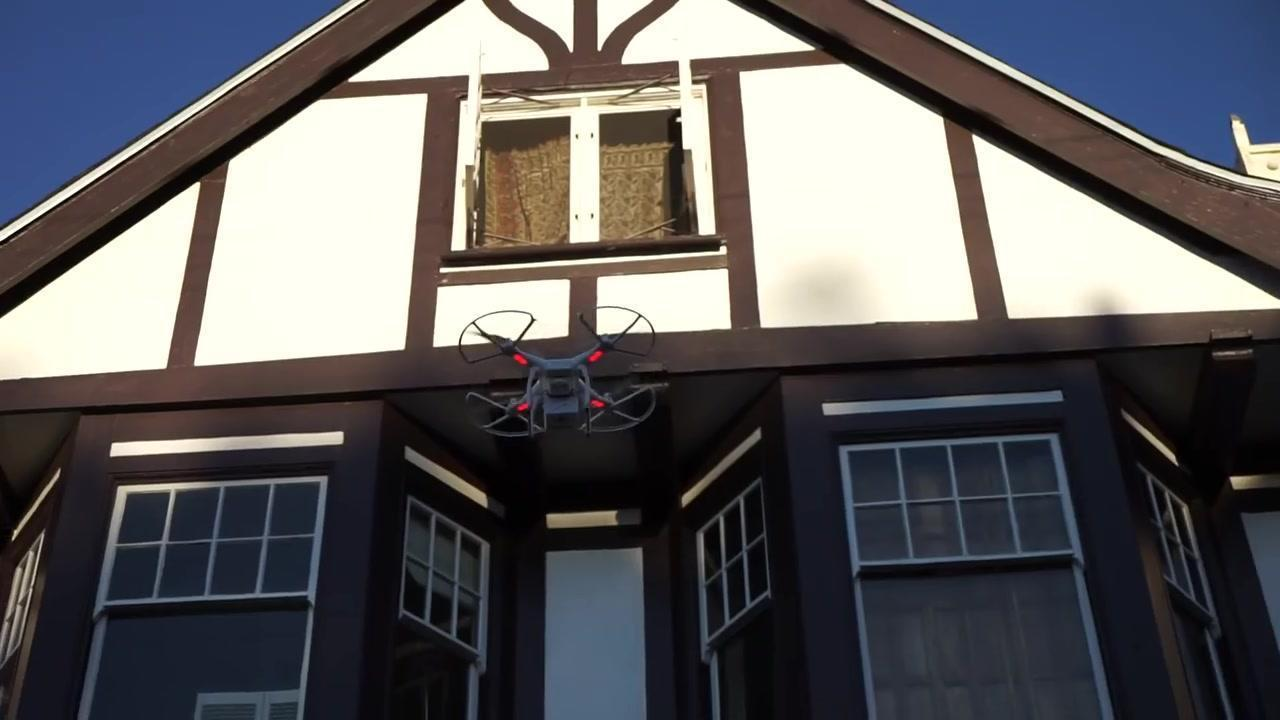UAV: (459, 306, 658, 440)
